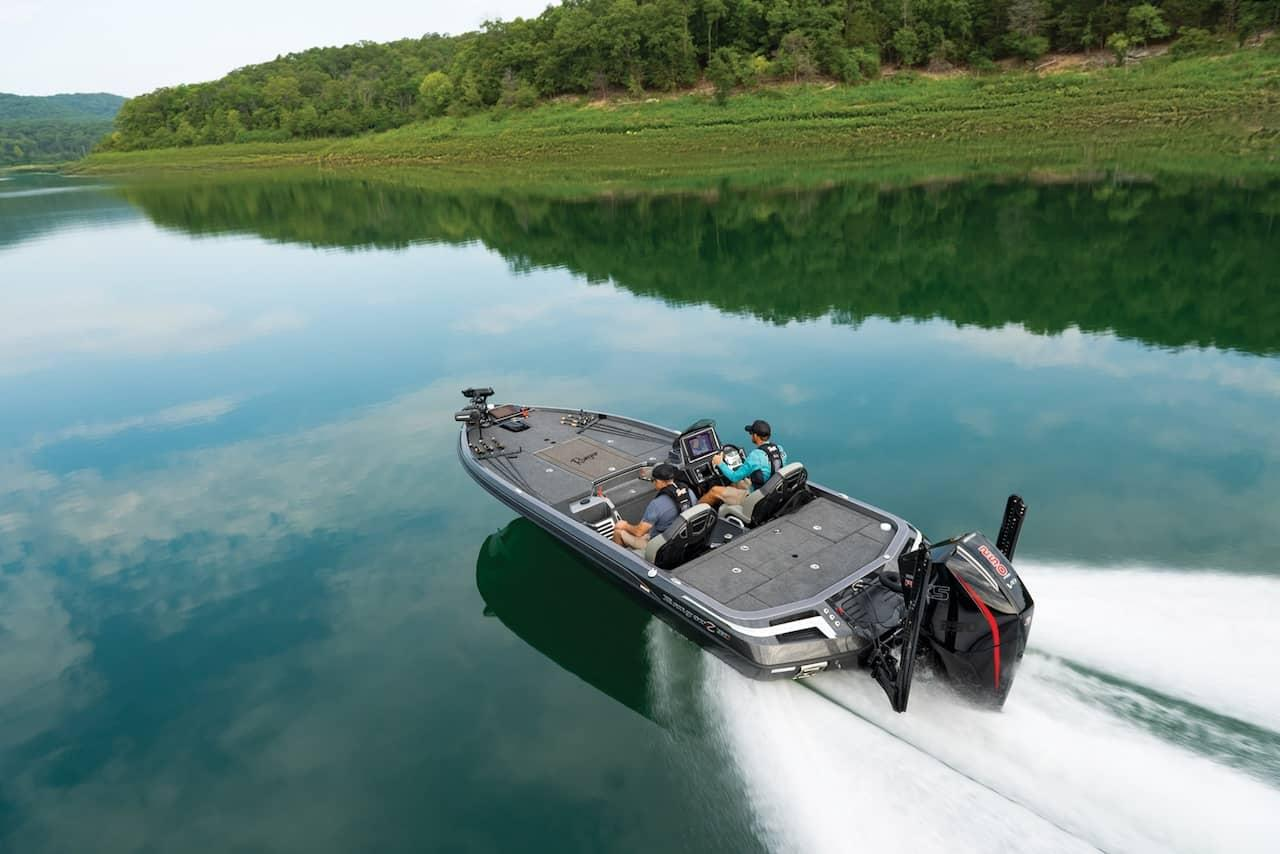fishing boat: (447, 362, 1040, 720)
